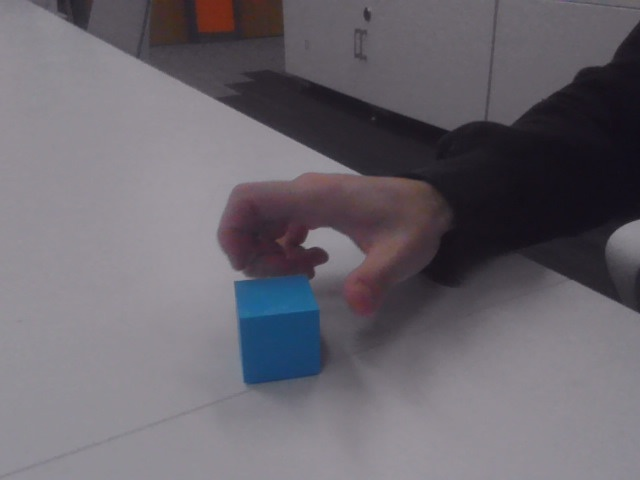cube: (232, 274, 320, 382)
